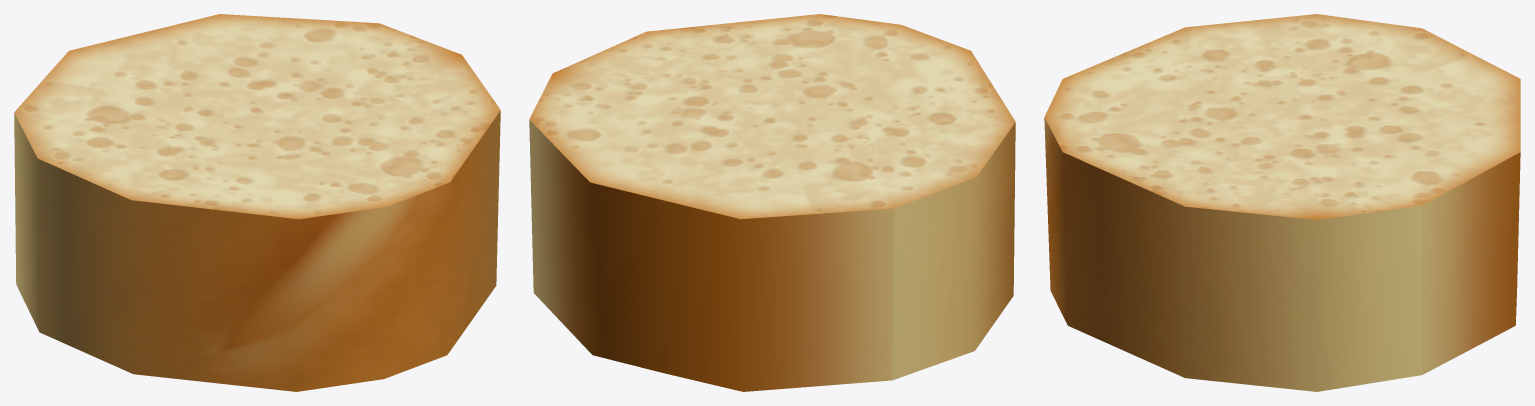
The model's file is Baguette_01_Slice.fbx.
The picture shows the model from 3 angles, left to right: view 1: azimuth 30°, elevation 25°; view 2: azimuth 150°, elevation 25°; view 3: azimuth 270°, elevation 25°; orthographic projection.
Parts seen in each view (by area): view 1: Baguette_01_Slice; view 2: Baguette_01_Slice; view 3: Baguette_01_Slice.
Part boxes in pixels (bbox=[...]): Baguette_01_Slice: bbox=[14, 14, 500, 391]; Baguette_01_Slice: bbox=[529, 14, 1015, 391]; Baguette_01_Slice: bbox=[1044, 14, 1520, 391].
Bounding box in the file's own units: 20.48 × 8.05 × 20.
